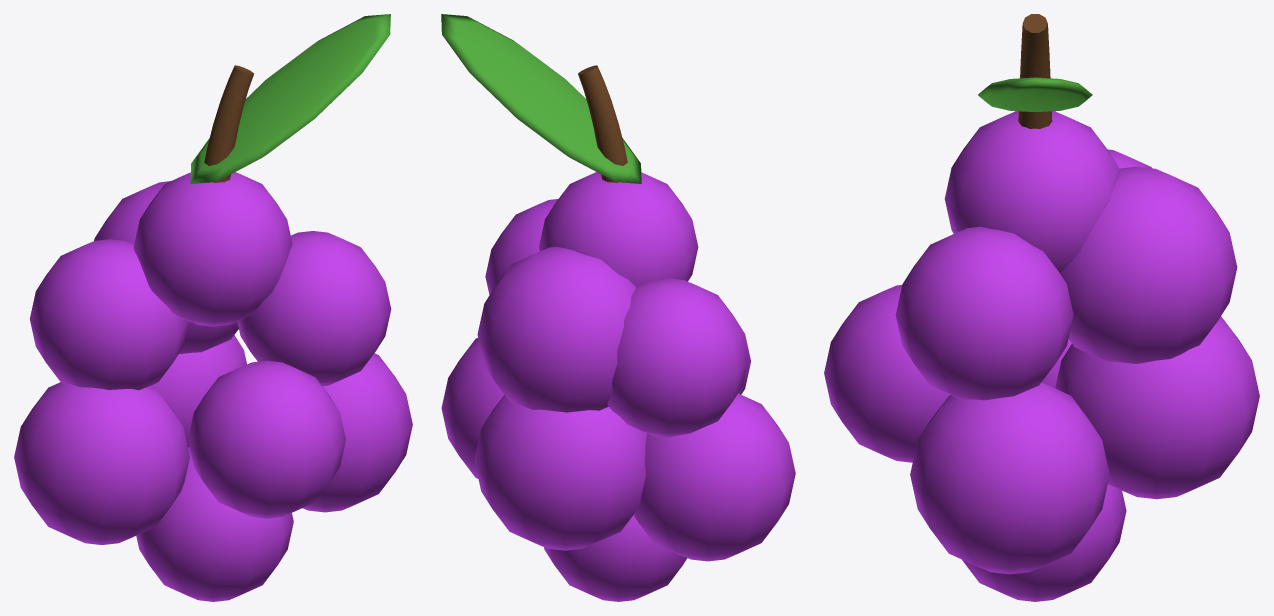
File: PrismBerry.fbx
3 renders of one model, left to right at view 1: azimuth 30°, elevation 25°; view 2: azimuth 150°, elevation 25°; view 3: azimuth 270°, elevation 25°, orthographic. The views are drawn at different scales.
Visible parts, largest first — view 1: Body, Body.003, Body.006, Body.004, Body.005, Handle, Leaf, Body.001, Body.002, Body.007, Twig; view 2: Body.002, Body.007, Body, Body.004, Body.006, Leaf, Handle, Body.001, Body.005, Twig; view 3: Body.001, Body.007, Body.005, Body.002, Body.006, Body.003, Handle, Leaf, Twig.
Boxes of the visible parts, bbox=[...] form: Body: bbox=[14, 382, 189, 544]; Body.003: bbox=[188, 360, 345, 518]; Body.006: bbox=[134, 172, 292, 326]; Body.004: bbox=[30, 239, 188, 390]; Body.005: bbox=[237, 231, 391, 386]; Handle: bbox=[136, 447, 293, 601]; Leaf: bbox=[190, 14, 390, 183]; Body.001: bbox=[302, 353, 412, 512]; Body.002: bbox=[151, 335, 246, 447]; Body.007: bbox=[94, 181, 238, 354]; Twig: bbox=[204, 65, 254, 182]; Body.002: bbox=[474, 395, 647, 550]; Body.007: bbox=[477, 246, 636, 412]; Body: bbox=[633, 393, 795, 561]; Body.004: bbox=[607, 278, 748, 437]; Body.006: bbox=[539, 172, 698, 287]; Leaf: bbox=[441, 14, 641, 183]; Handle: bbox=[544, 515, 687, 601]; Body.001: bbox=[441, 338, 504, 478]; Body.005: bbox=[485, 199, 557, 294]; Twig: bbox=[578, 65, 627, 182]; Body.001: bbox=[910, 382, 1109, 574]; Body.007: bbox=[1060, 166, 1237, 363]; Body.005: bbox=[895, 226, 1073, 400]; Body.002: bbox=[1055, 316, 1259, 499]; Body.006: bbox=[944, 111, 1120, 272]; Body.003: bbox=[824, 285, 950, 462]; Handle: bbox=[962, 484, 1126, 601]; Leaf: bbox=[978, 77, 1092, 112]; Twig: bbox=[1018, 14, 1052, 128].
Size of the model in its own units: 0.9172 by 1.33 by 0.8614.
